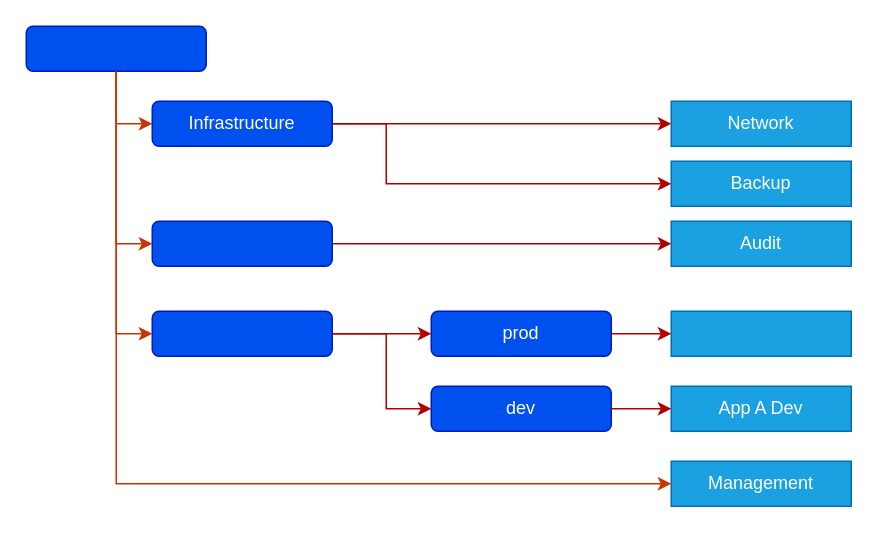
This 878x533 diagram has some shape labels left out. The box of each missing label's shape, as (x1, y1, x2, y2) in pixels:
App A Prod: (670, 310, 851, 356)
Root: (25, 25, 206, 71)
Security: (151, 220, 332, 266)
Workload: (151, 310, 332, 356)
